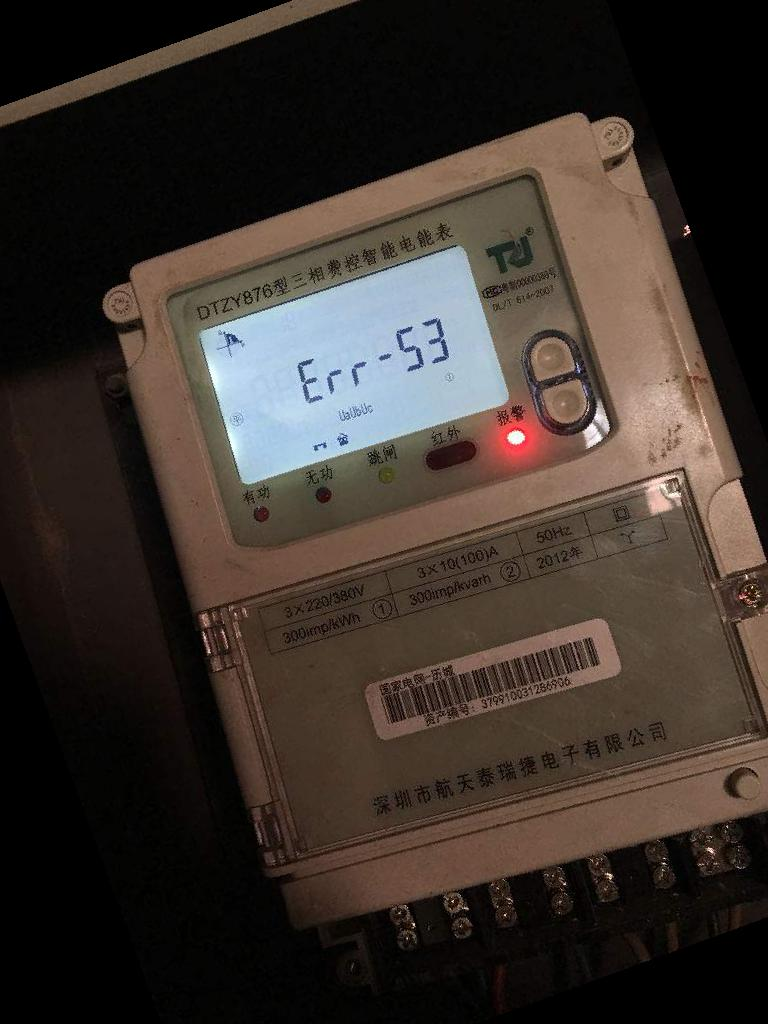digital: (109, 110, 768, 928)
